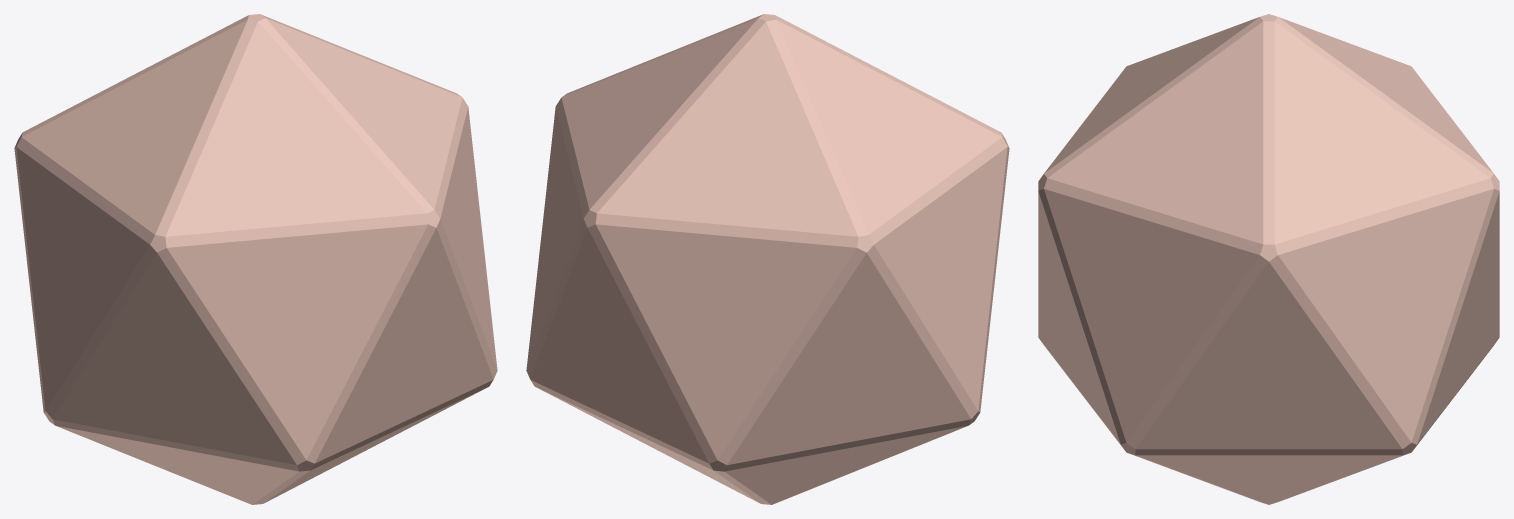
The model's file is EarthSpellParticle.fbx.
3 renders of one model, left to right at view 1: azimuth 30°, elevation 25°; view 2: azimuth 150°, elevation 25°; view 3: azimuth 270°, elevation 25°, orthographic.
Parts seen in each view (by area): view 1: IcosphereParticle; view 2: IcosphereParticle; view 3: IcosphereParticle.
Boxes of the visible parts, left/top/right/bottom form: IcosphereParticle: left=14, top=14, right=497, bottom=504; IcosphereParticle: left=526, top=14, right=1009, bottom=504; IcosphereParticle: left=1038, top=14, right=1499, bottom=504.
Bounding box in the file's own units: 177 × 195 × 169.
